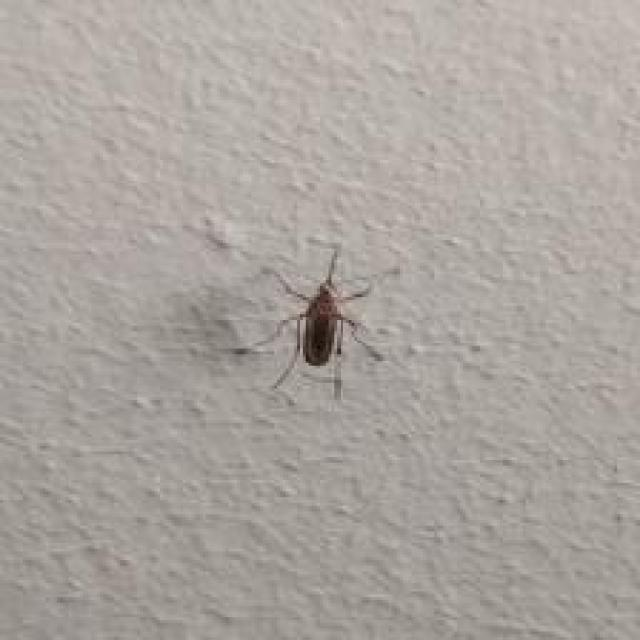Culex: (231, 246, 386, 403)
